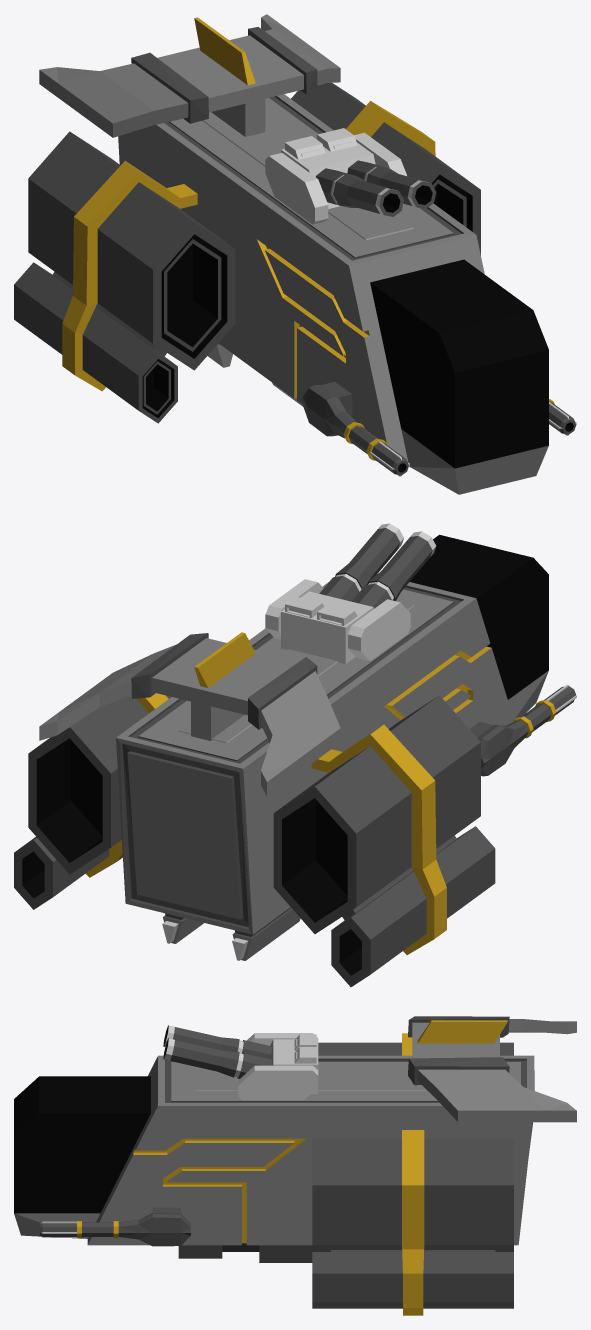
The model's file is Spaceship15_1.fbx.
3 renders of one model, top to bottom at view 1: azimuth 30°, elevation 25°; view 2: azimuth 150°, elevation 25°; view 3: azimuth 270°, elevation 25°, orthographic. The views are drawn at different scales.
Visible parts, largest first — view 1: Spaceship15_1; view 2: Spaceship15_1; view 3: Spaceship15_1.
Boxes of the visible parts, box(x1,y1,x2,y2) form: Spaceship15_1: box(14, 14, 576, 494); Spaceship15_1: box(14, 523, 576, 986); Spaceship15_1: box(14, 1016, 576, 1315).
Bounding box in the file's own units: 1927 × 1450 × 3131.
